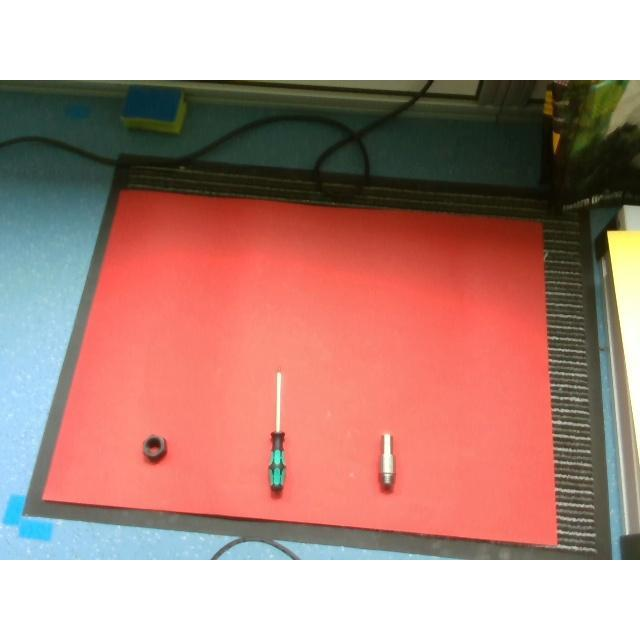Axis2: (378, 434, 394, 486)
M20: (142, 436, 166, 462)
Screwdriver: (270, 370, 284, 490)
